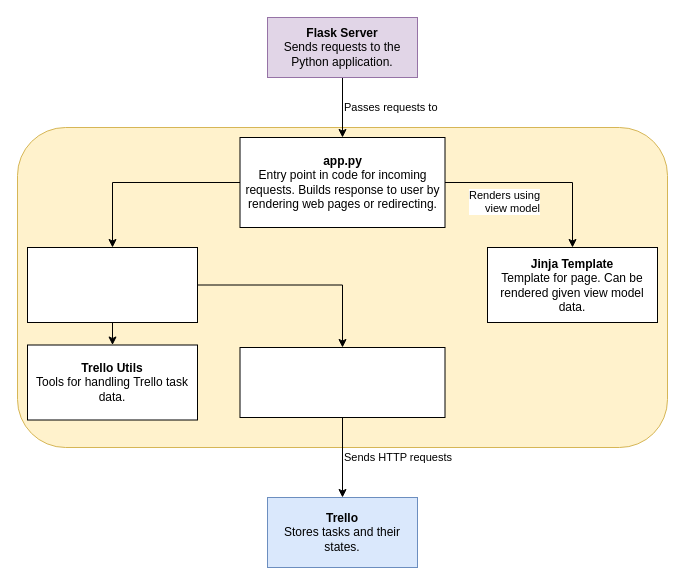
This 685x585 diagram has some shape labels left out. The box of each missing label's shape, as (x1, y1, x2, y2) in pixels:
Application code: (16, 126, 668, 448)
Trello client Makes API requests to Trello.: (239, 346, 445, 418)
Trello Items Service Reformats data going to or coming from Trello.: (26, 246, 198, 322)
